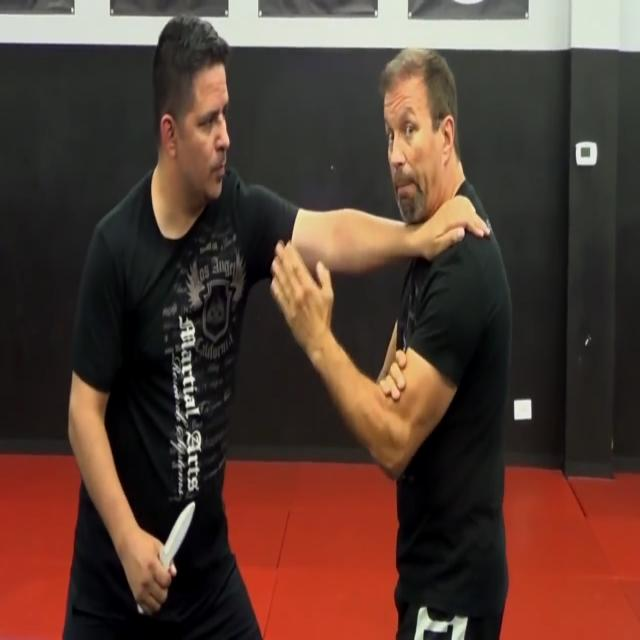knife: (162, 498, 199, 571)
